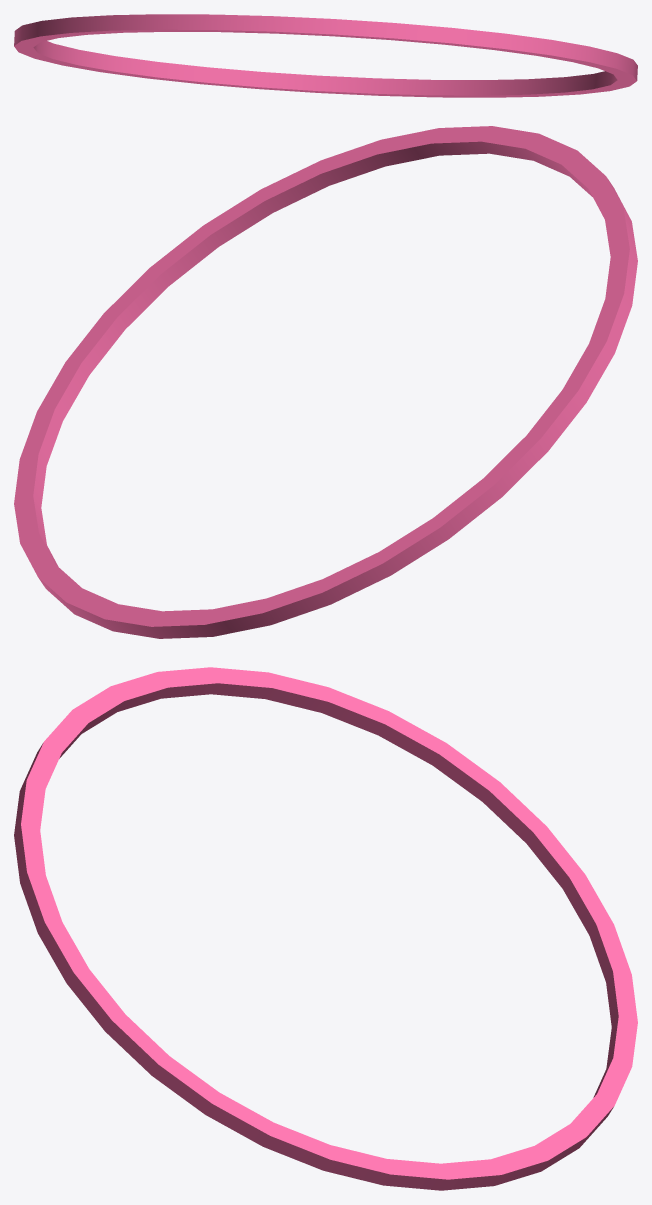
Rendered from Ring_2.glb.
3 views of the same model, one above another, from view 1: azimuth 30°, elevation 25°; view 2: azimuth 150°, elevation 25°; view 3: azimuth 270°, elevation 25° (orthographic). The views are drawn at different scales.
Parts seen in each view (by area): view 1: Ring_2; view 2: Ring_2; view 3: Ring_2.
Boxes of the visible parts, <box> form: Ring_2: <box>14,14,637,97</box>; Ring_2: <box>14,126,637,638</box>; Ring_2: <box>14,667,637,1190</box>.
Bounding box in the file's own units: 7.68 × 4.23 × 7.37.
